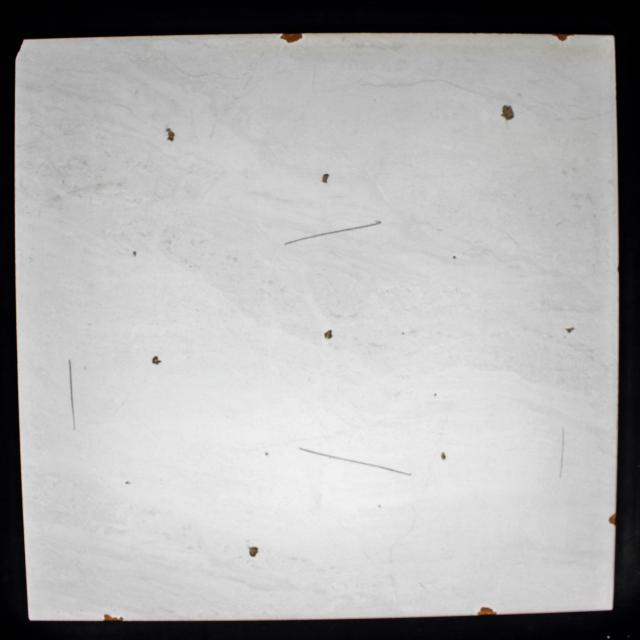edge-chipping: (279, 32, 304, 44), (476, 605, 499, 616), (550, 34, 576, 42), (102, 613, 125, 622), (16, 39, 24, 57), (608, 512, 616, 526)
hole: (500, 104, 516, 122), (164, 126, 176, 143), (247, 544, 260, 558), (151, 355, 162, 366), (323, 329, 333, 340), (564, 325, 574, 335), (321, 172, 329, 184), (439, 451, 448, 461), (131, 250, 139, 258), (122, 480, 133, 485), (263, 451, 271, 457), (452, 255, 458, 261)
line: (295, 445, 414, 477), (283, 218, 385, 246), (66, 358, 77, 432), (558, 426, 565, 480)
